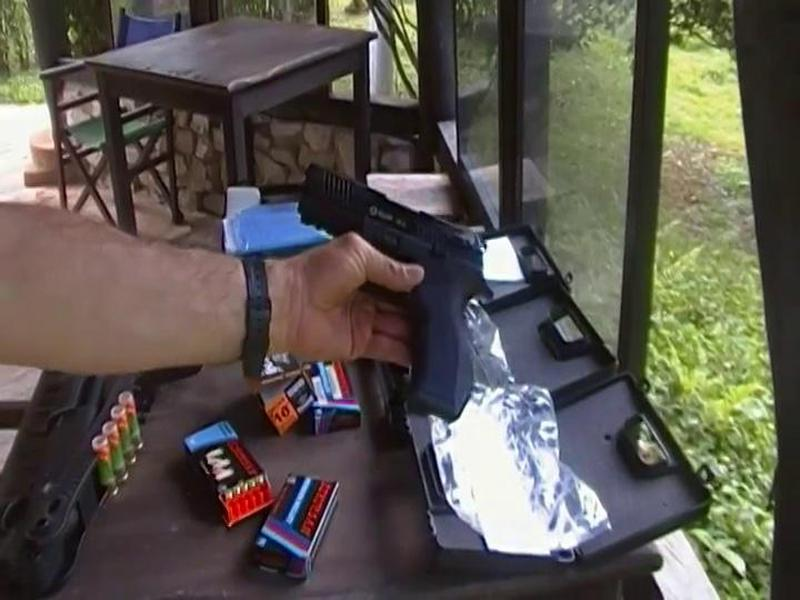Pistola: (294, 164, 498, 426)
